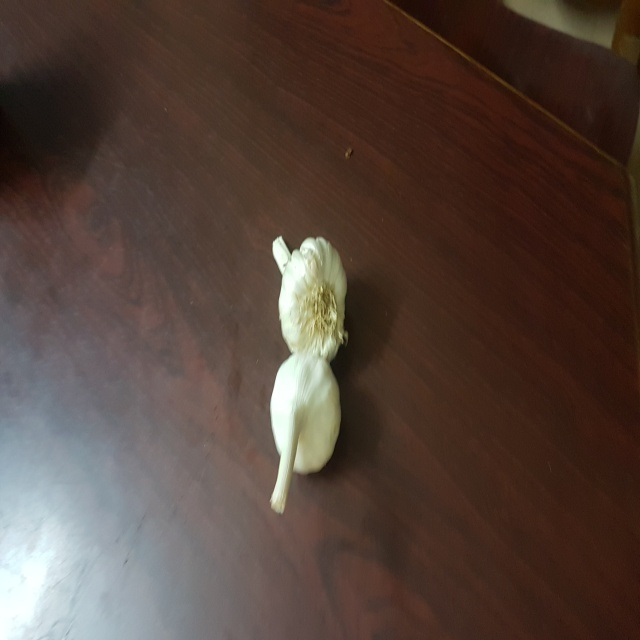garlic: (258, 356, 347, 519), (265, 232, 356, 361)
